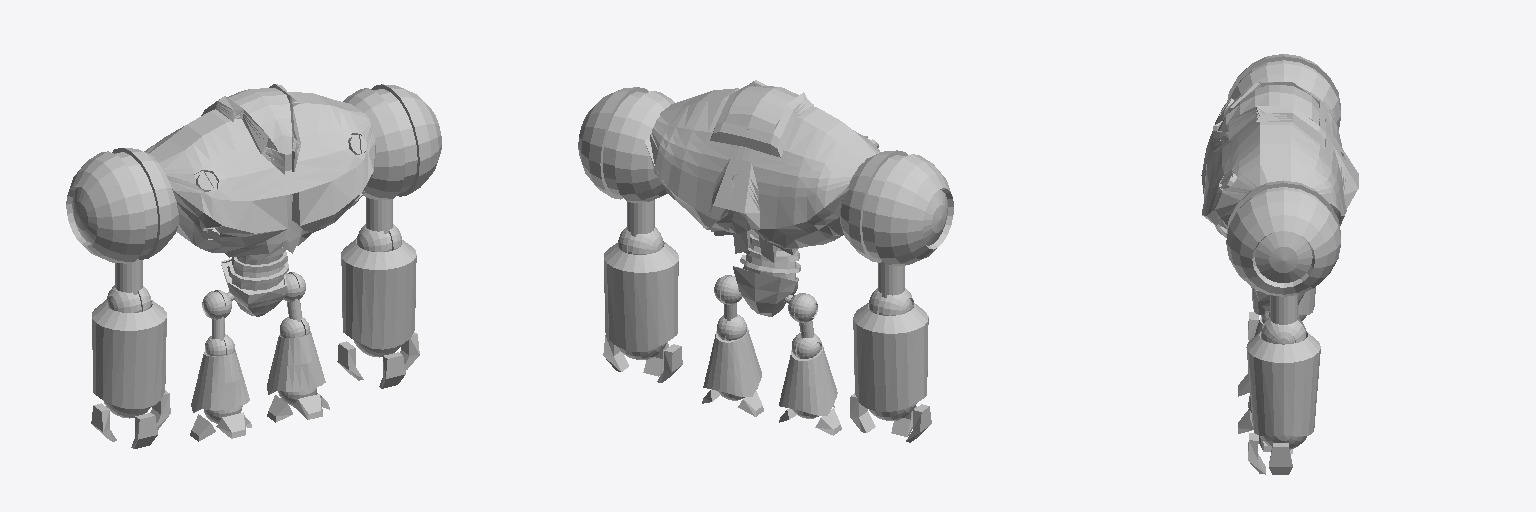
Rendered from RobotModel.obj.
3 renders of one model, left to right at view 1: azimuth 30°, elevation 25°; view 2: azimuth 150°, elevation 25°; view 3: azimuth 270°, elevation 25°, orthographic.
Visible parts, largest first — view 1: UpperTorsoGroup TopTorso, R_Shoulder R_Shoulder R_ArmGroup, L_ArmGroup L_Shoulder, L_ArmGroup L_Forearm, R_ArmGroup R_Forearm R_Forearm, R_LegGroup R_Shin R_Shin, L_LegGroup L_Shin, HeadGroup InnerHead, OutSideHead HeadGroup, LowerTorsoGroup Stomach, Pelvis LowerTorsoGroup, UpperTorsoGroup MiddleTorso (+11 smaller); view 2: UpperTorsoGroup TopTorso, R_Shoulder R_Shoulder R_ArmGroup, L_ArmGroup L_Shoulder, L_ArmGroup L_Forearm, R_ArmGroup R_Forearm R_Forearm, R_LegGroup R_Shin R_Shin, L_LegGroup L_Shin, OutSideHead HeadGroup, HeadGroup InnerHead, JetPackGroup OuterJetPack, Pelvis LowerTorsoGroup, LowerTorsoGroup Stomach (+12 smaller); view 3: L_ArmGroup L_Shoulder, UpperTorsoGroup TopTorso, L_ArmGroup L_Forearm, R_Shoulder R_Shoulder R_ArmGroup, OutSideHead HeadGroup, HeadGroup InnerHead, L_ArmGroup L_Elbow, JetPackGroup OuterJetPack, L_ArmGroup L_Bicep, L_Claw1 L_ArmGroup.
Part boxes in pixels (bbox=[...]): UpperTorsoGroup TopTorso: bbox=[144, 92, 375, 252]; R_Shoulder R_Shoulder R_ArmGroup: bbox=[66, 148, 179, 263]; L_ArmGroup L_Shoulder: bbox=[343, 84, 441, 199]; L_ArmGroup L_Forearm: bbox=[341, 238, 416, 349]; R_ArmGroup R_Forearm R_Forearm: bbox=[92, 300, 166, 408]; R_LegGroup R_Shin R_Shin: bbox=[191, 350, 249, 412]; L_LegGroup L_Shin: bbox=[267, 331, 325, 394]; HeadGroup InnerHead: bbox=[227, 88, 293, 170]; OutSideHead HeadGroup: bbox=[201, 84, 301, 174]; LowerTorsoGroup Stomach: bbox=[227, 247, 288, 290]; Pelvis LowerTorsoGroup: bbox=[221, 258, 286, 316]; UpperTorsoGroup MiddleTorso: bbox=[225, 194, 311, 257]; UpperTorsoGroup TopTorso: bbox=[645, 88, 880, 248]; R_Shoulder R_Shoulder R_ArmGroup: bbox=[840, 150, 953, 265]; L_ArmGroup L_Shoulder: bbox=[578, 87, 674, 202]; L_ArmGroup L_Forearm: bbox=[604, 241, 678, 351]; R_ArmGroup R_Forearm R_Forearm: bbox=[853, 303, 928, 411]; R_LegGroup R_Shin R_Shin: bbox=[779, 345, 837, 415]; L_LegGroup L_Shin: bbox=[703, 327, 761, 396]; OutSideHead HeadGroup: bbox=[710, 80, 813, 157]; HeadGroup InnerHead: bbox=[725, 86, 798, 133]; JetPackGroup OuterJetPack: bbox=[709, 157, 759, 227]; Pelvis LowerTorsoGroup: bbox=[733, 266, 798, 316]; LowerTorsoGroup Stomach: bbox=[740, 229, 800, 280]; L_ArmGroup L_Shoulder: bbox=[1226, 180, 1340, 296]; UpperTorsoGroup TopTorso: bbox=[1201, 82, 1346, 228]; L_ArmGroup L_Forearm: bbox=[1246, 331, 1320, 435]; R_Shoulder R_Shoulder R_ArmGroup: bbox=[1227, 54, 1340, 129]; OutSideHead HeadGroup: bbox=[1213, 82, 1325, 151]; HeadGroup InnerHead: bbox=[1218, 85, 1320, 131]; L_ArmGroup L_Elbow: bbox=[1261, 318, 1305, 344]; JetPackGroup OuterJetPack: bbox=[1333, 135, 1358, 209]; L_ArmGroup L_Bicep: bbox=[1270, 295, 1297, 324]; L_Claw1 L_ArmGroup: bbox=[1269, 443, 1292, 474].
Size of the model in its own units: 4.95 by 4.42 by 1.92.